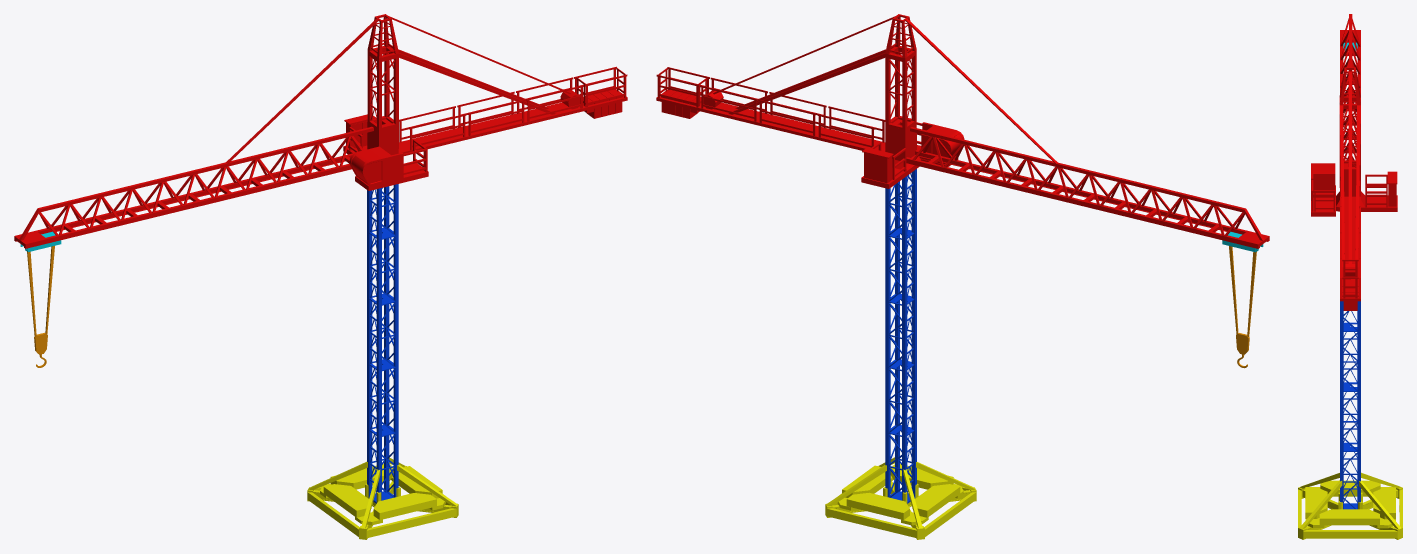
Rendered from crane less maps.fbx.
3 renders of one model, left to right at view 1: azimuth 30°, elevation 25°; view 2: azimuth 150°, elevation 25°; view 3: azimuth 270°, elevation 25°, orthographic. The views are drawn at different scales.
Visible parts, largest first — view 1: entire_top_crane_middle_pivot_crane_pCube89, bottom_crane_pCube7, pCube91, hook1; view 2: entire_top_crane_middle_pivot_crane_pCube89, bottom_crane_pCube7, pCube91, hook1; view 3: entire_top_crane_middle_pivot_crane_pCube89, pCube91, bottom_crane_pCube7.
Boxes of the visible parts, <box> form: entire_top_crane_middle_pivot_crane_pCube89: <box>14,14,627,248</box>; bottom_crane_pCube7: <box>367,184,398,503</box>; pCube91: <box>307,457,458,539</box>; hook1: <box>27,245,54,367</box>; entire_top_crane_middle_pivot_crane_pCube89: <box>656,14,1269,248</box>; bottom_crane_pCube7: <box>885,169,916,503</box>; pCube91: <box>825,457,976,539</box>; hook1: <box>1229,246,1256,368</box>; entire_top_crane_middle_pivot_crane_pCube89: <box>1311,14,1397,310</box>; pCube91: <box>1298,472,1402,539</box>; bottom_crane_pCube7: <box>1340,301,1360,509</box>.
Bounding box in the file's own units: 87.57 × 68.15 × 14.47.
